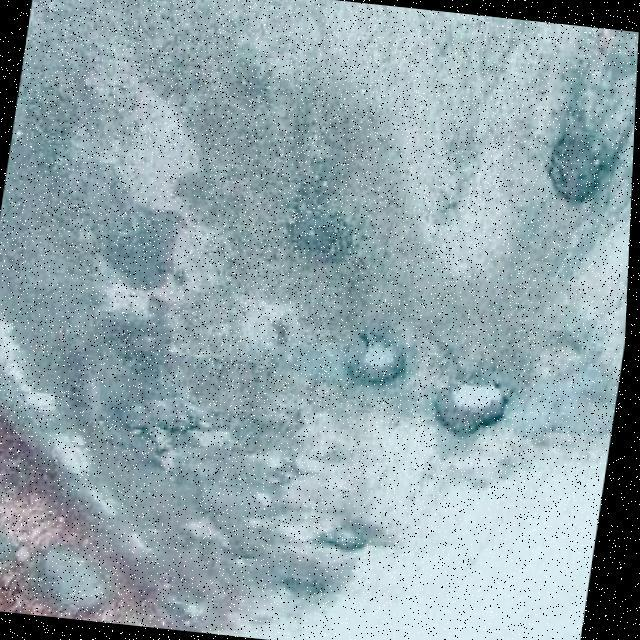pothole: (541, 104, 615, 207), (126, 400, 216, 468), (430, 374, 514, 444), (286, 198, 362, 272), (352, 328, 412, 392), (316, 522, 378, 556), (283, 572, 334, 602)
